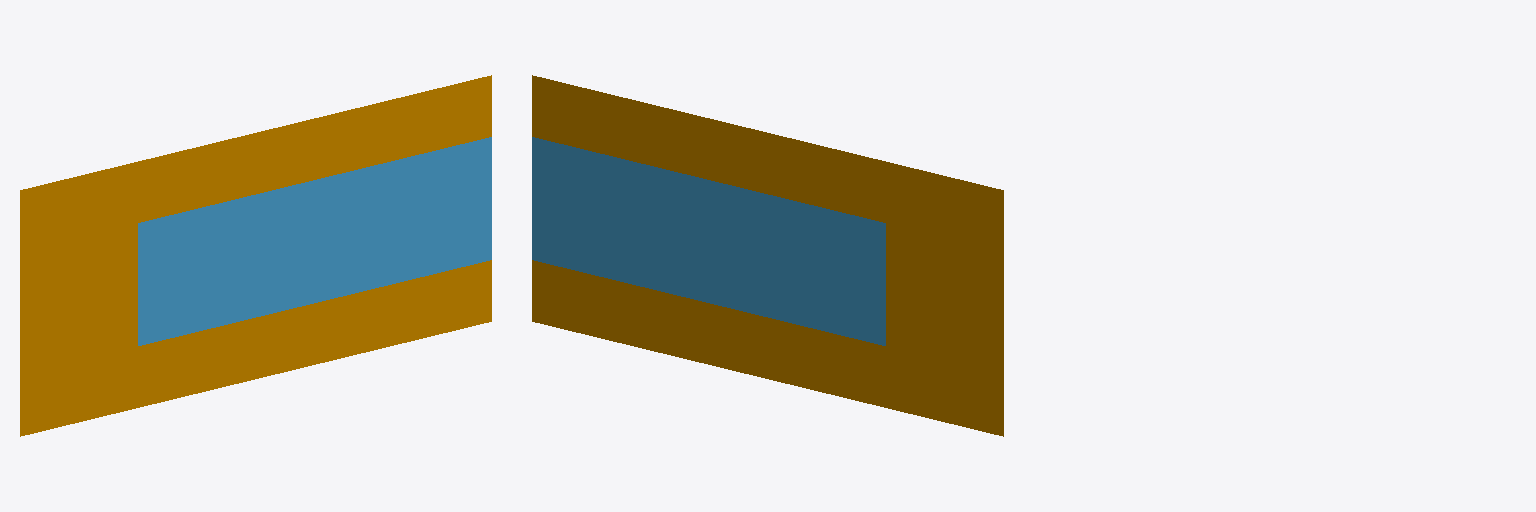
URDF robot description (ground.urdf):
<?xml version="0.0" ?>
<robot name="ground.urdf">
  <link name="grass">
    <inertial>
      <origin rpy="0 0 0" xyz="0 0 0"/>
       <mass value="0"/>
       <inertia ixx="0" ixy="0" ixz="0" iyy="0" iyz="0" izz="0"/>
    </inertial>
    <visual>
    <geometry>
      <mesh filename="grass.obj"/>
    </geometry>
  </visual>
  </link>
  <link name="runway">
    <inertial>
       <origin rpy="0 0 0" xyz="0 0 0"/>
       <mass value="0"/>
       <inertia ixx="0" ixy="0" ixz="0" iyy="0" iyz="0" izz="0"/>
    </inertial>
    <visual>
    <geometry>
      <mesh filename="runway.obj"/>
    </geometry>
  </visual>
  </link>
  <joint name="ground_to_runway" type="fixed">
      <parent link="grass"/>
      <child link="runway"/>
  </joint>
</robot>

--- Render facts (derived) ---
Views: 3 orthographic renders of the robot side by side, from view 1: azimuth 30°, elevation 25°; view 2: azimuth 150°, elevation 25°; view 3: azimuth 270°, elevation 25°.
Model ground.urdf with 2 links and 1 joints (1 fixed), rooted at grass, posed every joint at zero.
Links seen in each view (by area): view 1: grass, runway; view 2: grass, runway; view 3: none.
Boxes of the visible links, x1=… form: grass: x1=20, y1=75, x2=491, y2=436; runway: x1=138, y1=137, x2=491, y2=345; grass: x1=532, y1=75, x2=1003, y2=436; runway: x1=532, y1=137, x2=885, y2=345.
Size in the robot's own frame: 40 by 0 by 20 metres.
2 mesh visuals loaded from 2 distinct referenced files (2 OBJ).